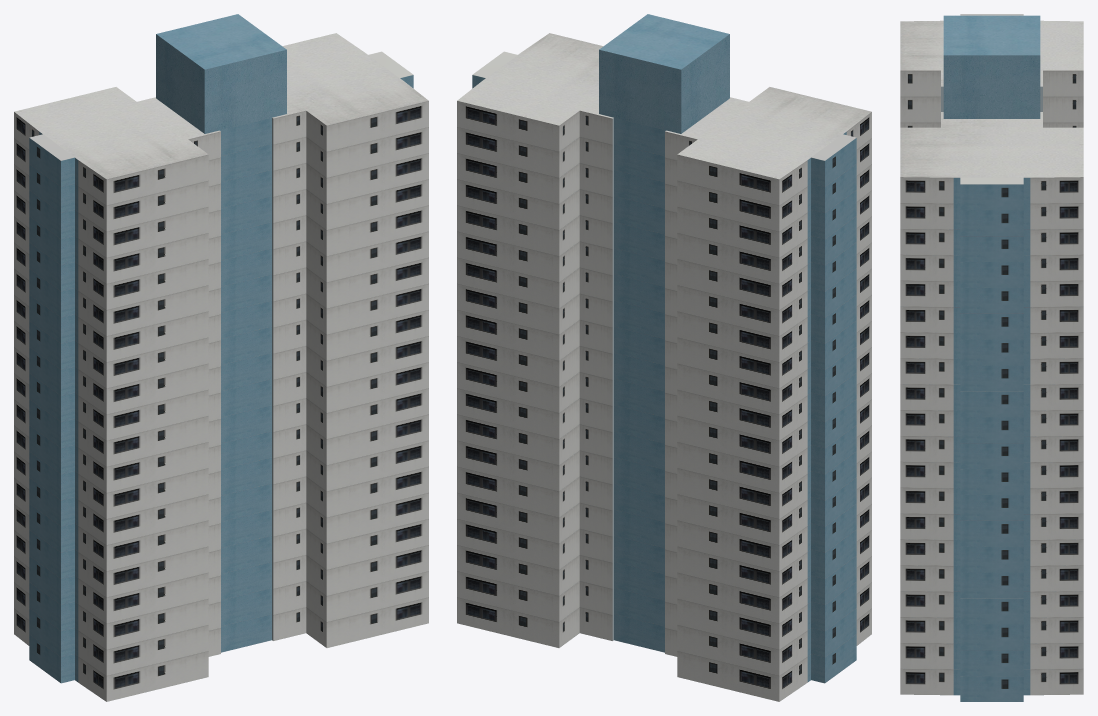
File: Building-05.fbx
The picture shows the model from 3 angles, left to right: view 1: azimuth 30°, elevation 25°; view 2: azimuth 150°, elevation 25°; view 3: azimuth 270°, elevation 25°; orthographic projection.
Parts seen in each view (by area): view 1: Building-05; view 2: Building-05; view 3: Building-05.
Boxes of the visible parts, left/top/right/bottom form: Building-05: left=14, top=14, right=428, bottom=701; Building-05: left=457, top=14, right=871, bottom=701; Building-05: left=900, top=14, right=1083, bottom=701.
Size of the model in its own units: 4587 by 7294 by 2084.
